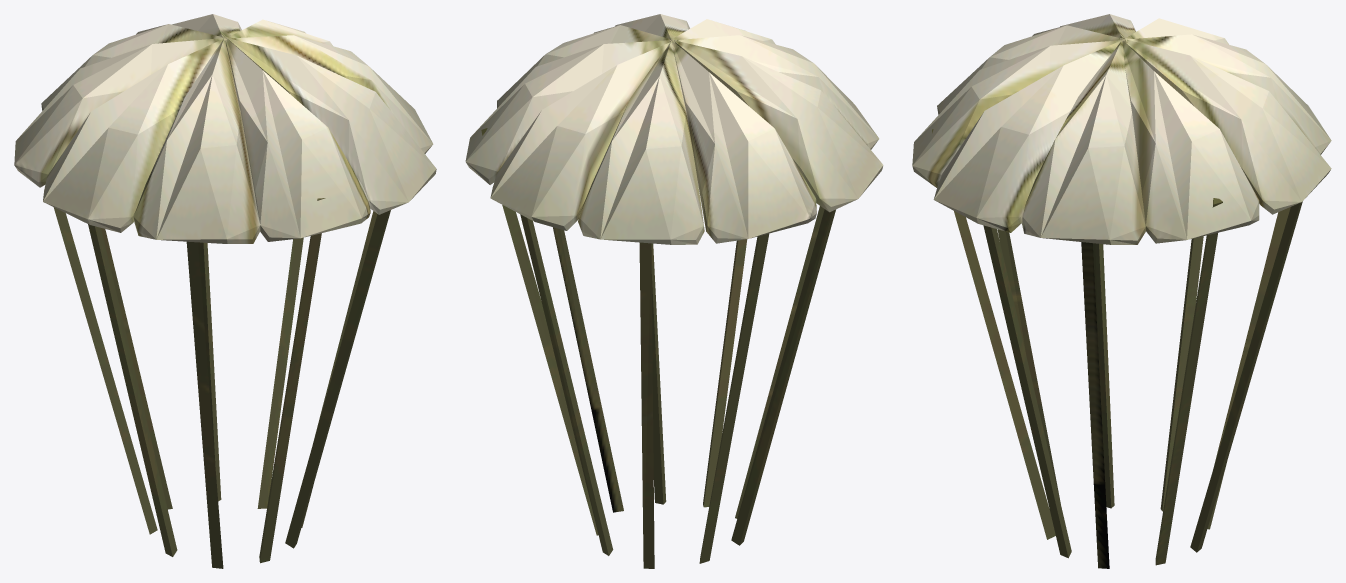
Rendered from Para.glb.
3 renders of one model, left to right at view 1: azimuth 30°, elevation 25°; view 2: azimuth 150°, elevation 25°; view 3: azimuth 270°, elevation 25°, orthographic.
Parts seen in each view (by area): view 1: Para; view 2: Para; view 3: Para.
Boxes of the visible parts, <box> form: Para: <box>14,14,436,568</box>; Para: <box>465,14,883,568</box>; Para: <box>912,14,1331,568</box>.
Size of the model in its own units: 160 by 206 by 158.
Materials: 1 (1 with a texture image).
